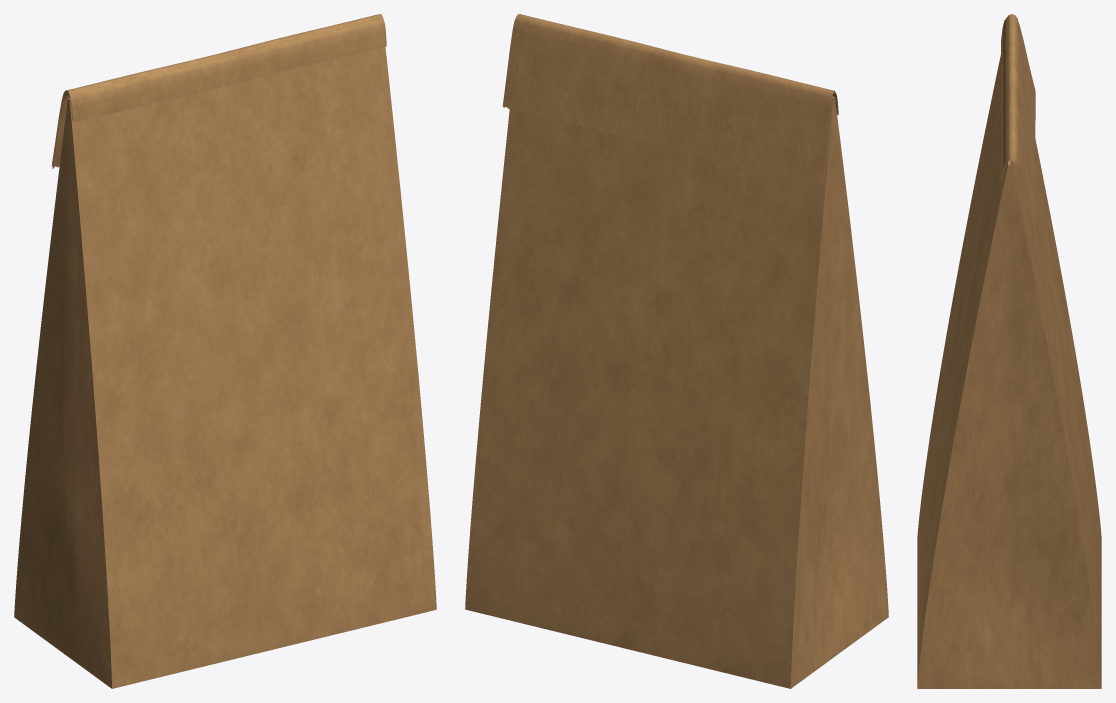
Rendered from Lunch_Bag_v3_Repaired.fbx.
The picture shows the model from 3 angles, left to right: view 1: azimuth 30°, elevation 25°; view 2: azimuth 150°, elevation 25°; view 3: azimuth 270°, elevation 25°; orthographic projection. The views are drawn at different scales.
Parts seen in each view (by area): view 1: Lunch_Bag_v3_Repaired; view 2: Lunch_Bag_v3_Repaired; view 3: Lunch_Bag_v3_Repaired.
Boxes of the visible parts, x1,y1,x2,y2 form: Lunch_Bag_v3_Repaired: (14,14,436,688); Lunch_Bag_v3_Repaired: (465,14,888,688); Lunch_Bag_v3_Repaired: (917,14,1101,688).
Size of the model in its own units: 18.2 by 30.03 by 9.5.
1 material, 1 textured.
